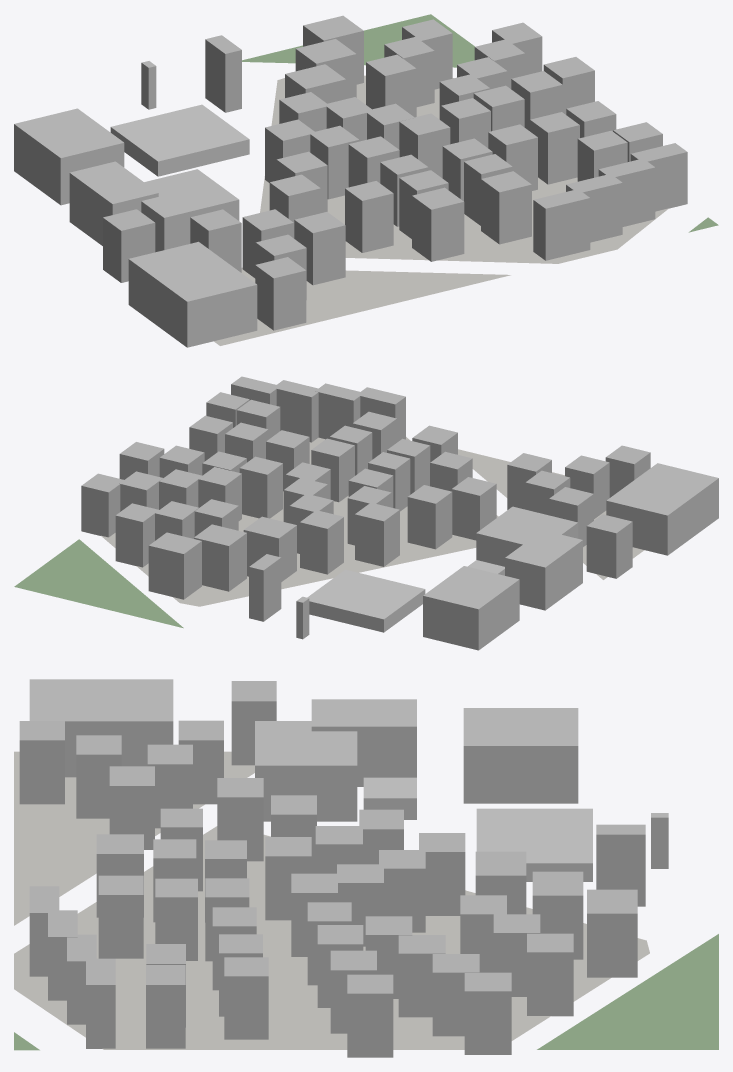
The model's file is 112_116_mid.glb.
3 views of the same model, one above another, from view 1: azimuth 30°, elevation 25°; view 2: azimuth 150°, elevation 25°; view 3: azimuth 270°, elevation 25° (orthographic). The views are drawn at different scales.
Size of the model in its own units: 539 by 57.15 by 500.
